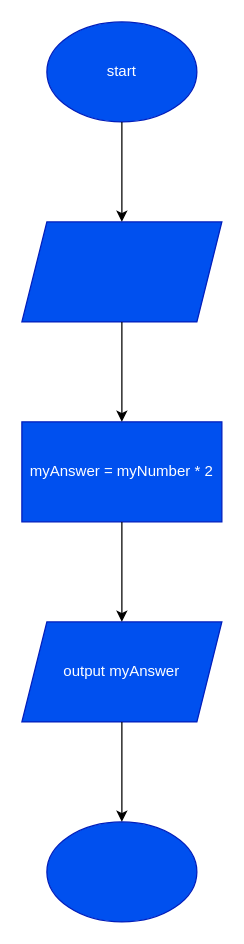
This 244x944 diagram has some shape labels left out. Each missing label, with the centre of its shape:
"input myNumber" goes at point (121, 271).
"stop" goes at point (121, 871).
